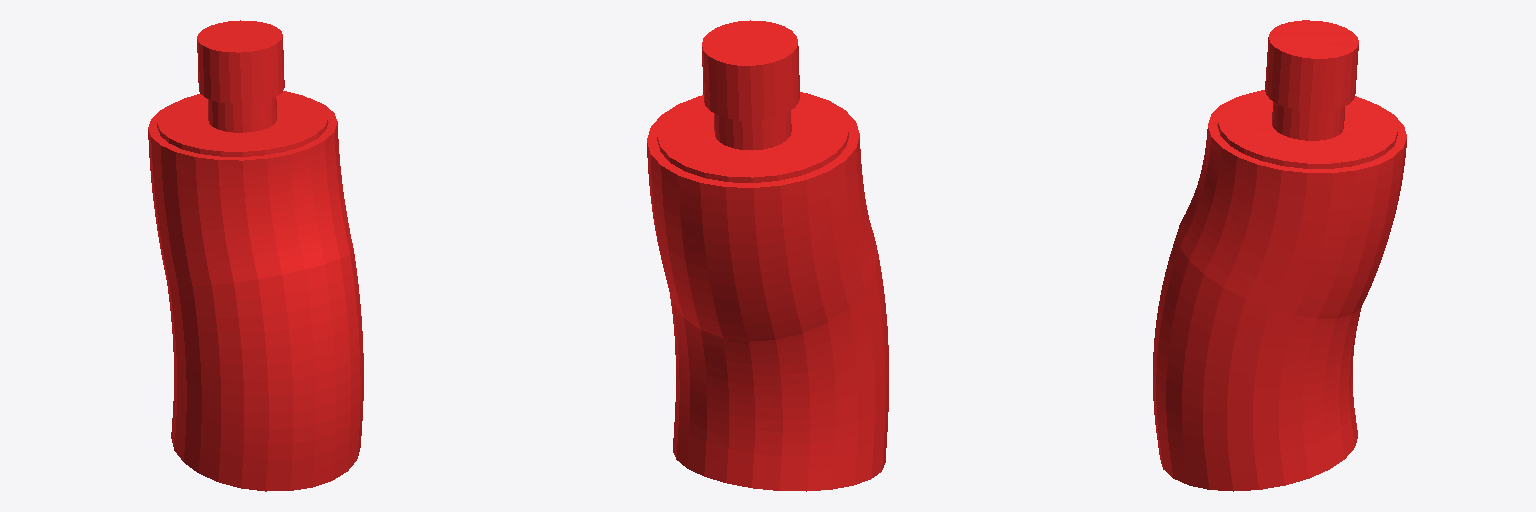
URDF robot description (bottle):
<?xml version="0.0" ?>
<robot name="bottle">
    <link concave="yes" name="base_link">
        <!-- <contact>
            <lateral_friction value="3.0"/>
            <rolling_friction value="3.0"/>
            <spinning_friction value="3.0"/>
        </contact> -->
        <inertial>
            <origin xyz="0 0 0.03"/>
            <mass value="1"/>
            <inertia ixx="1" ixy="0" ixz="0" iyy="1" iyz="0" izz="1"/>
        </inertial>
        <visual>
            <origin xyz="0.0 -0.0  0"/>
            <geometry>
                <mesh filename="bottle.obj" scale="0.015 0.015 0.015 "/>
            </geometry>
      <material name="bottle">
        <color rgba="1.0 0.2 0.2 1"/>
        <specular rgb="1 1 1"/>
      </material>
        </visual>
        <collision concave="yes">
            <origin xyz="0.0 -0.0 0"/>
            <geometry>
                <mesh filename="bottle.obj" scale="0.015 0.015 0.015 "/>
            </geometry>
        </collision>
    </link>
</robot>

--- Render facts (derived) ---
Views: 3 orthographic renders of the robot side by side, from view 1: azimuth 30°, elevation 25°; view 2: azimuth 150°, elevation 25°; view 3: azimuth 270°, elevation 25°.
Model bottle with 1 links and 0 joints (none), rooted at base_link, posed all joints at 0.
Visible links, largest first — view 1: base_link; view 2: base_link; view 3: base_link.
Link boxes in pixels (bbox=[...]): base_link: bbox=[148, 20, 363, 491]; base_link: bbox=[647, 20, 888, 491]; base_link: bbox=[1153, 20, 1406, 491].
Bounding box of the posed robot: 0.0724 × 0.092 × 0.1682 m (x, y, z).
Meshes: 1 distinct files referenced, 1 mesh visuals loaded (1 OBJ).